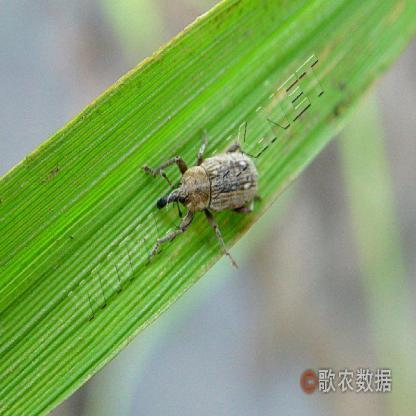rice-bug: (154, 134, 263, 252)
